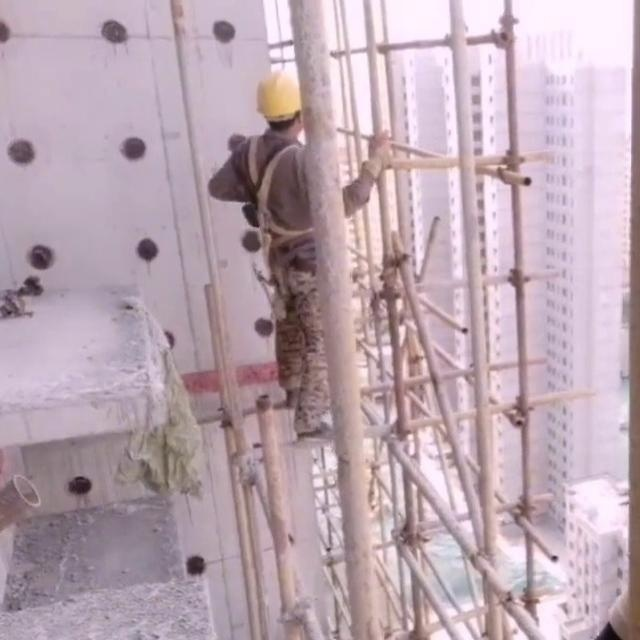Arnes_seguridad: (235, 131, 316, 265)
